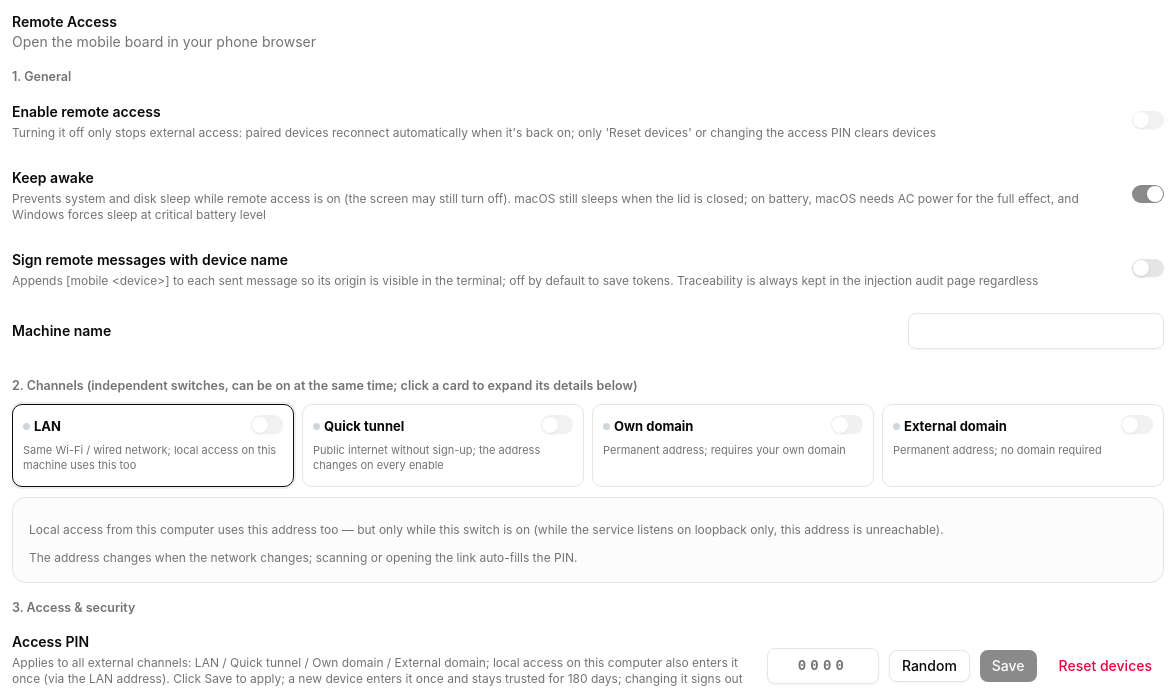
Scenario: RemoteSection 展示态取 running、开关取 enabled（评审 C-I1） › 临时隧道 enabled ∧ !running：未运行徽标 + 说明（旧版只剩一个「公网」徽标、无地址无说明）
The width and height of the screenshot is (1176, 688).
Click the button that starts with "Quick tunnel" at point(443, 445), box [302,404,584,486]
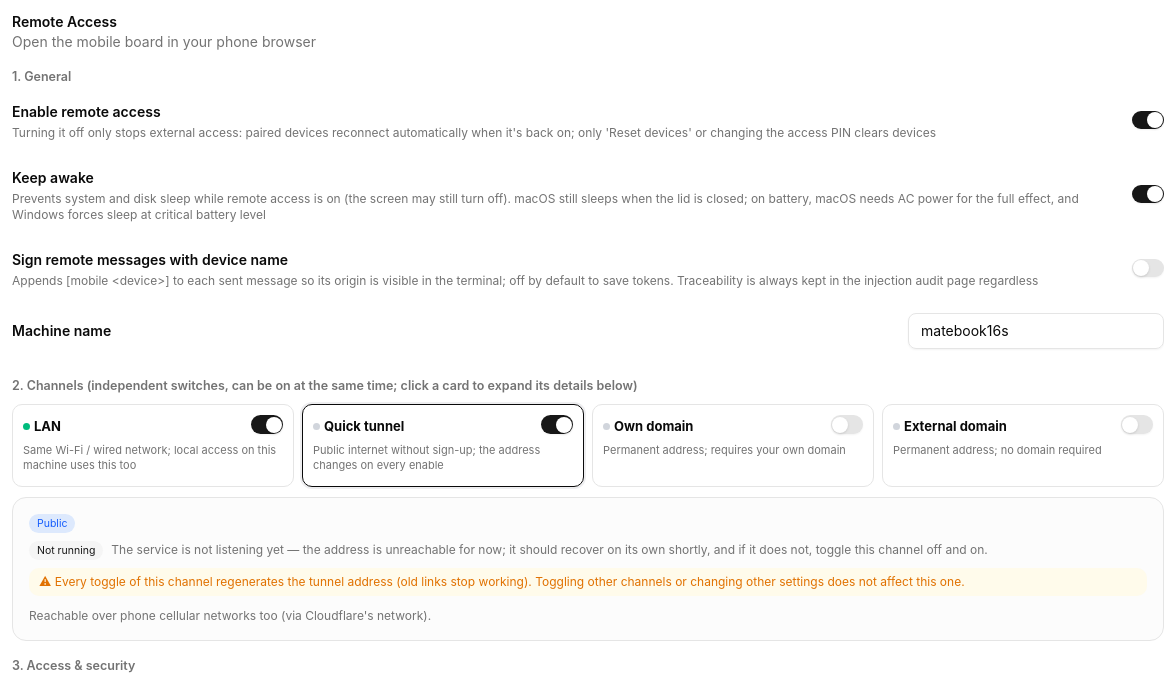
expect the text "Not running" is shown: met, box [29,540,103,560]
expect the text "is not listening yet" is shown: met, box [111,542,988,557]
